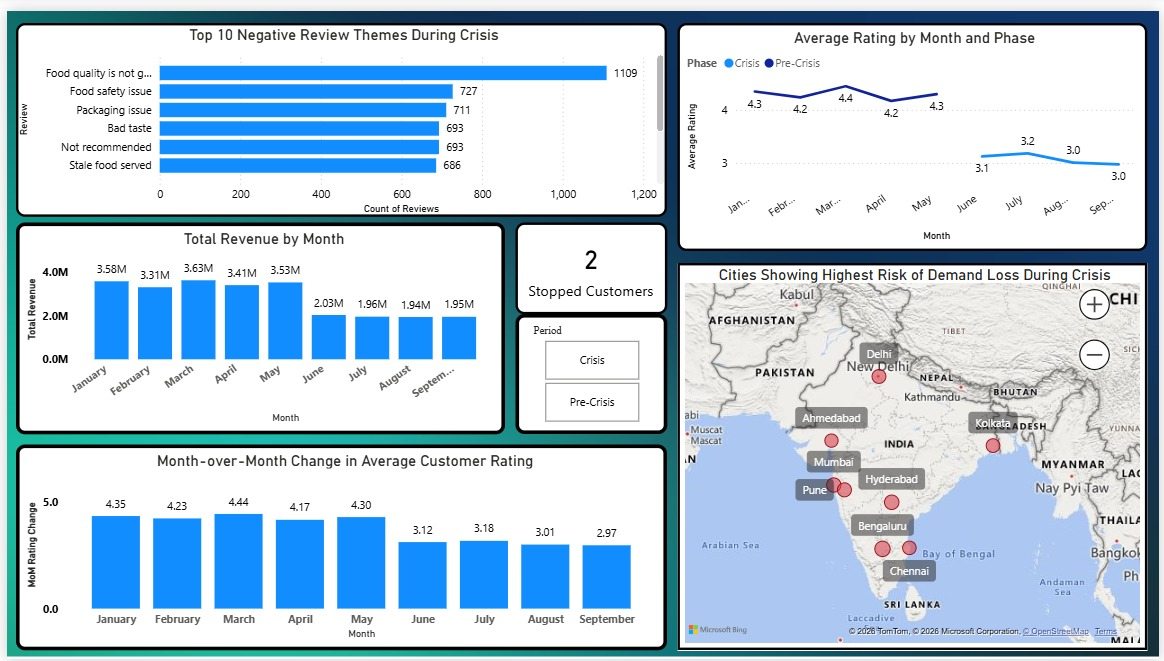

The page's visual inventory and layout, read from the dashboard file:
{"tool":"powerbi","page":{"name":"Page 2","canvas":[1280,720],"ordinal":1},"visuals":[{"type":"lineChart","fields":{"Category":["fact_orders.order_timestamp.Variation.Date Hierarchy.Month"],"Y":["fact_ratings.Average Rating"],"Series":["fact_orders.Phase"]},"box":[745,13.3,521.7,253.3],"z":0},{"type":"columnChart","title":"Month-over-Month Change in Average Customer Rating","fields":{"Category":["fact_orders.order_timestamp.Variation.Date Hierarchy.Month"],"Y":["fact_ratings.MoM Rating Change"]},"box":[10,481.7,723.3,228.3],"z":1000},{"type":"barChart","title":"Top 10 Negative Review Themes During Crisis","fields":{"Category":["fact_ratings.review_text"],"Y":["CountNonNull(fact_ratings.review_text)"]},"box":[10,13.3,723.3,215],"z":2000},{"type":"clusteredColumnChart","fields":{"Y":["fact_orders.Total Revenue"],"Category":["DateTable.Date.Variation.Date Hierarchy.Month"]},"box":[10,235,543.3,235],"z":3000},{"type":"slicer","fields":{"Values":["DateTable.Period"]},"box":[565,336.7,168.3,133.3],"z":4000},{"type":"card","title":"Stopped Customers Who Placed 5 or More Orders Before Crisis","fields":{"Values":["fact_orders.Stopped Customers"]},"box":[565,235,168.3,101.7],"z":5000},{"type":"map","title":"Cities Showing Highest Risk of Demand Loss During Crisis","fields":{"Category":["dim_customer.city"],"Size":["fact_orders.PreCrisis_Orders"]},"box":[745,280,521.7,430],"z":6000}]}

Visuals, with their boxes in screenshot pixels (x1, y1, x2, y2), scaled from the page's 1280x720 canvas onto the 1164x661 screenshot:
lineChart - fact_orders.order_timestamp.Variation.Date Hierarchy.Month x fact_ratings.Average Rating: [left=677, top=12, right=1152, bottom=245]
"Month-over-Month Change in Average Customer Rating" columnChart: [left=9, top=442, right=667, bottom=652]
"Top 10 Negative Review Themes During Crisis" barChart: [left=9, top=12, right=667, bottom=210]
clusteredColumnChart - fact_orders.Total Revenue x DateTable.Date.Variation.Date Hierarchy.Month: [left=9, top=216, right=503, bottom=431]
slicer - DateTable.Period: [left=514, top=309, right=667, bottom=431]
"Stopped Customers Who Placed 5 or More Orders Before Crisis" card: [left=514, top=216, right=667, bottom=309]
"Cities Showing Highest Risk of Demand Loss During Crisis" map: [left=677, top=257, right=1152, bottom=652]
